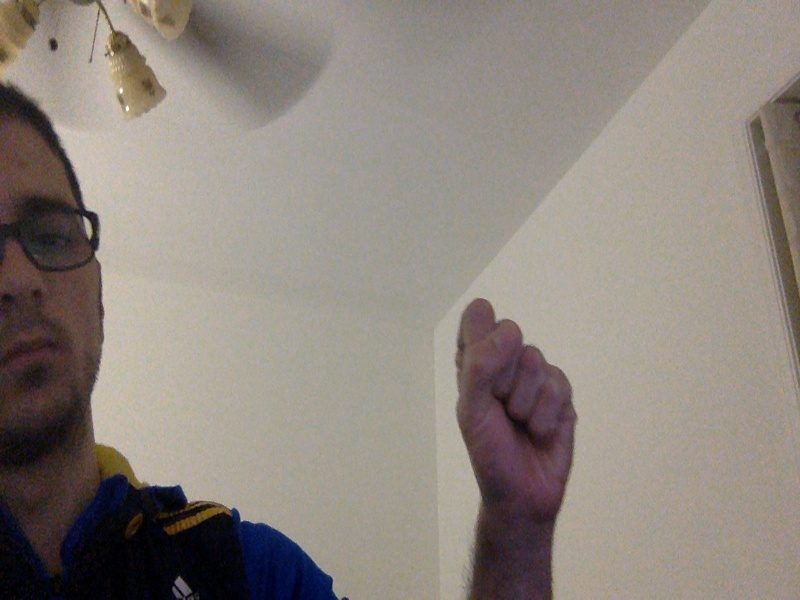0-hand: (457, 298, 577, 505)
